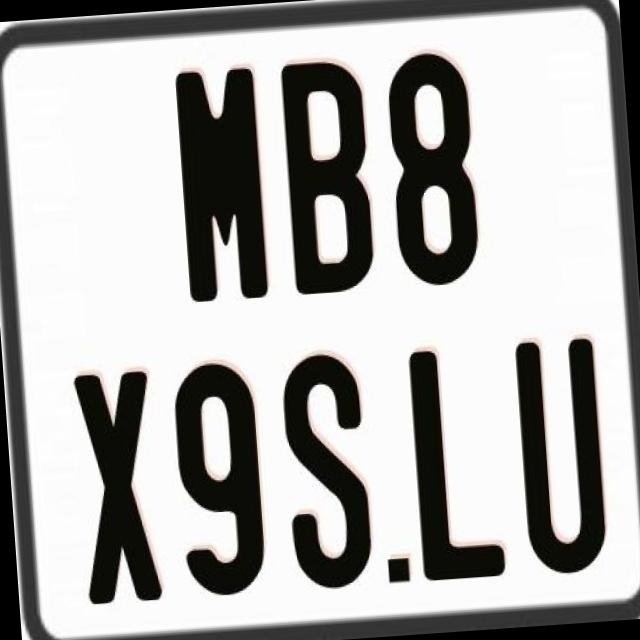8: (380, 50, 478, 288)
9: (170, 360, 274, 599)
B: (279, 54, 377, 294)
L: (406, 344, 512, 589)
M: (171, 66, 271, 312)
S: (276, 350, 372, 598)
U: (510, 337, 607, 582)
X: (70, 370, 162, 609)
